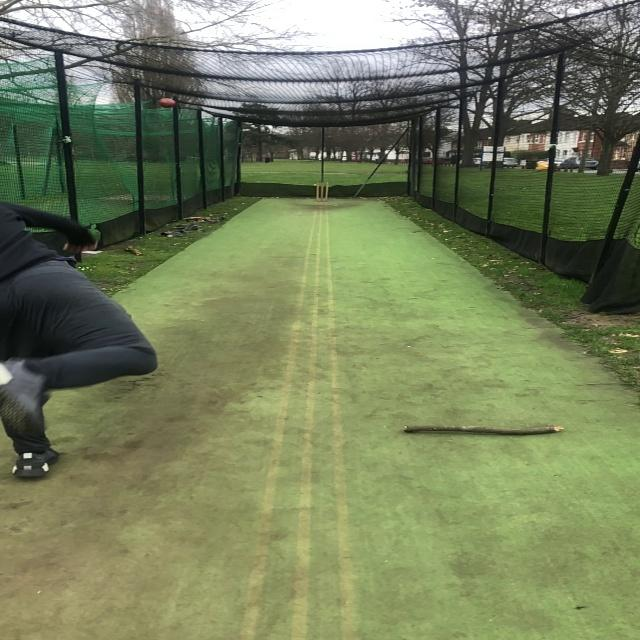ball: (158, 98, 176, 109)
